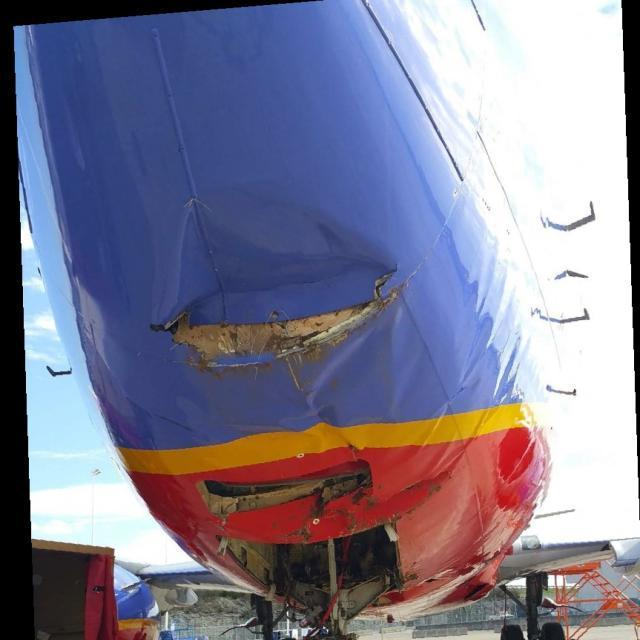crack: (368, 264, 403, 295)
dent: (162, 189, 394, 313), (306, 324, 374, 414)
